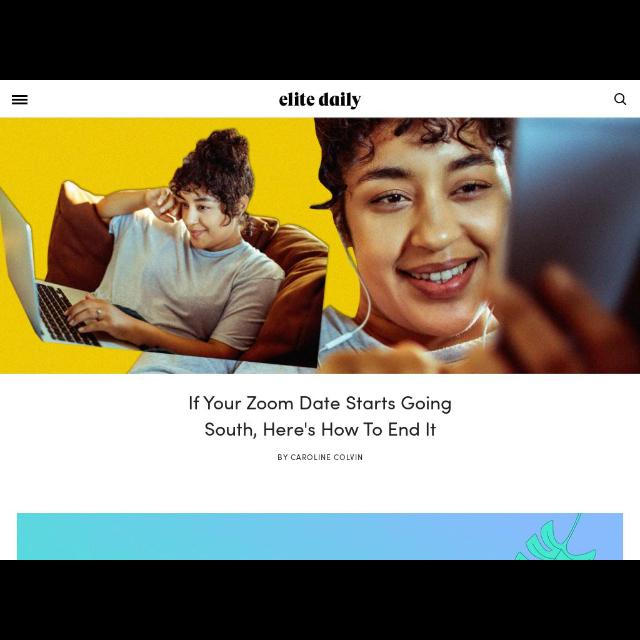icon: (8, 94, 30, 108), (613, 92, 629, 108)
image: (1, 117, 639, 373), (278, 89, 364, 111)
text: (188, 395, 454, 441), (276, 452, 364, 463)
toolbar: (1, 82, 639, 116)
